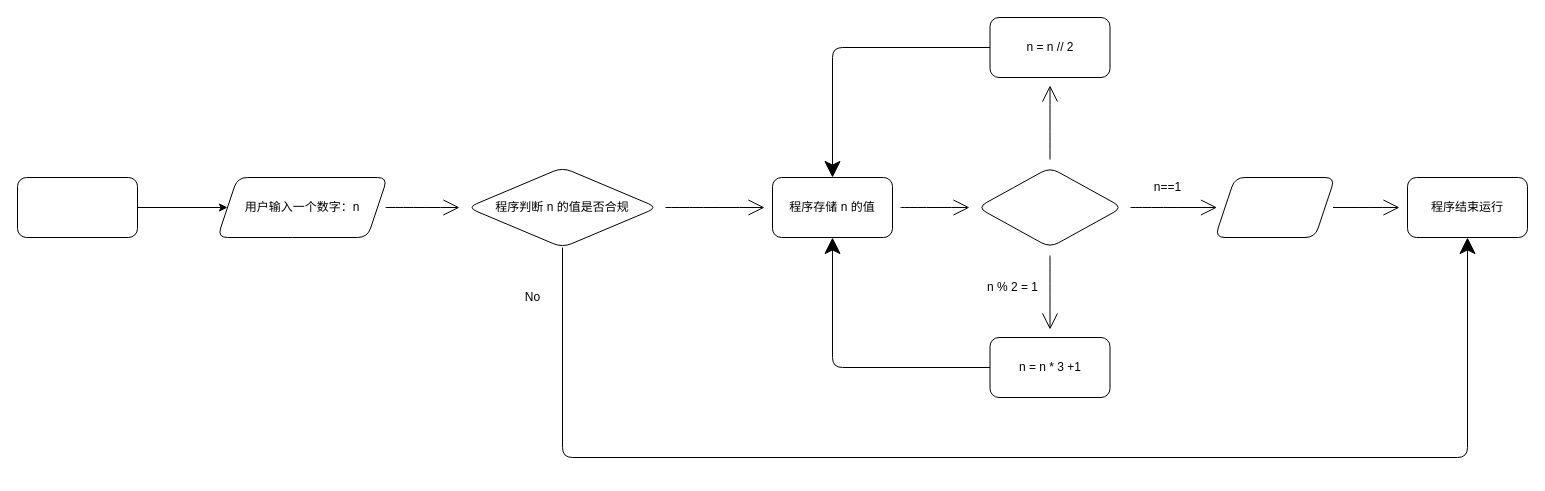
The diagram is 1545 pixels wide and 491 high, and some of its shapes have lost their labels. Each missing label, with the centre of its shape:
"程序判断 n 的值" goes at pixel 1049 207.
"程序输出 n 的值" goes at pixel 1274 207.
"运行程序" goes at pixel 77 207.
